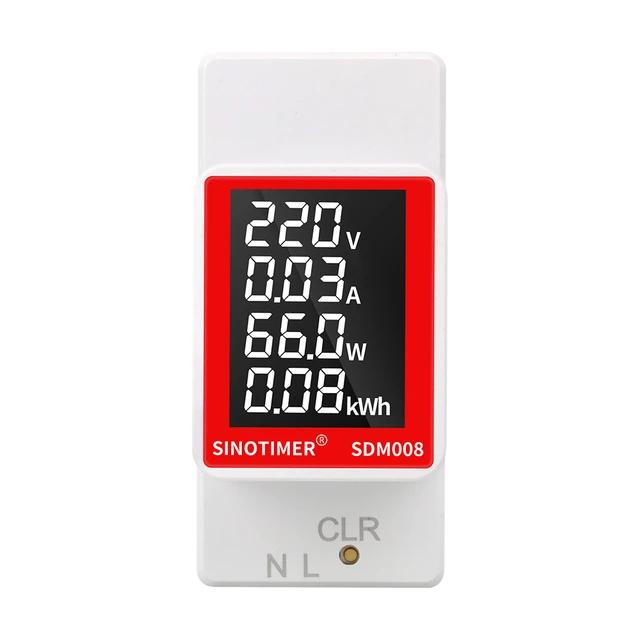display: (227, 186, 405, 426)
frame: (242, 363, 348, 418), (242, 196, 344, 250), (243, 253, 347, 305), (242, 312, 348, 361), (391, 441, 426, 460)
gauge: (198, 55, 446, 588)
